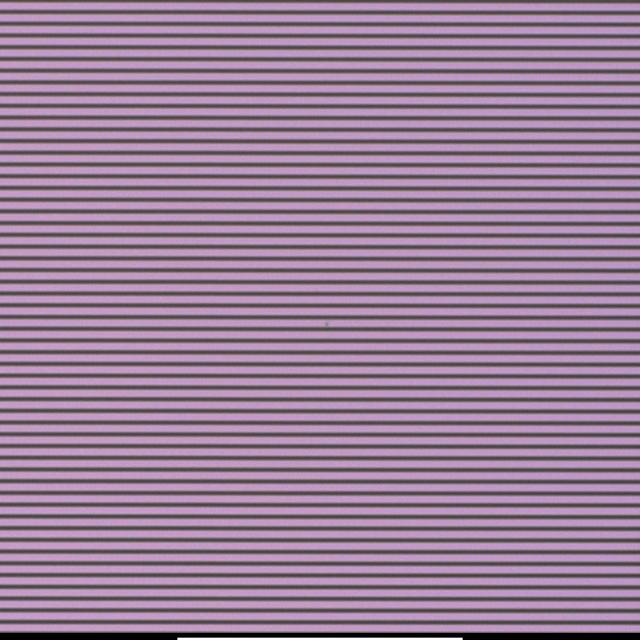nonvisual: (322, 320, 331, 330)
